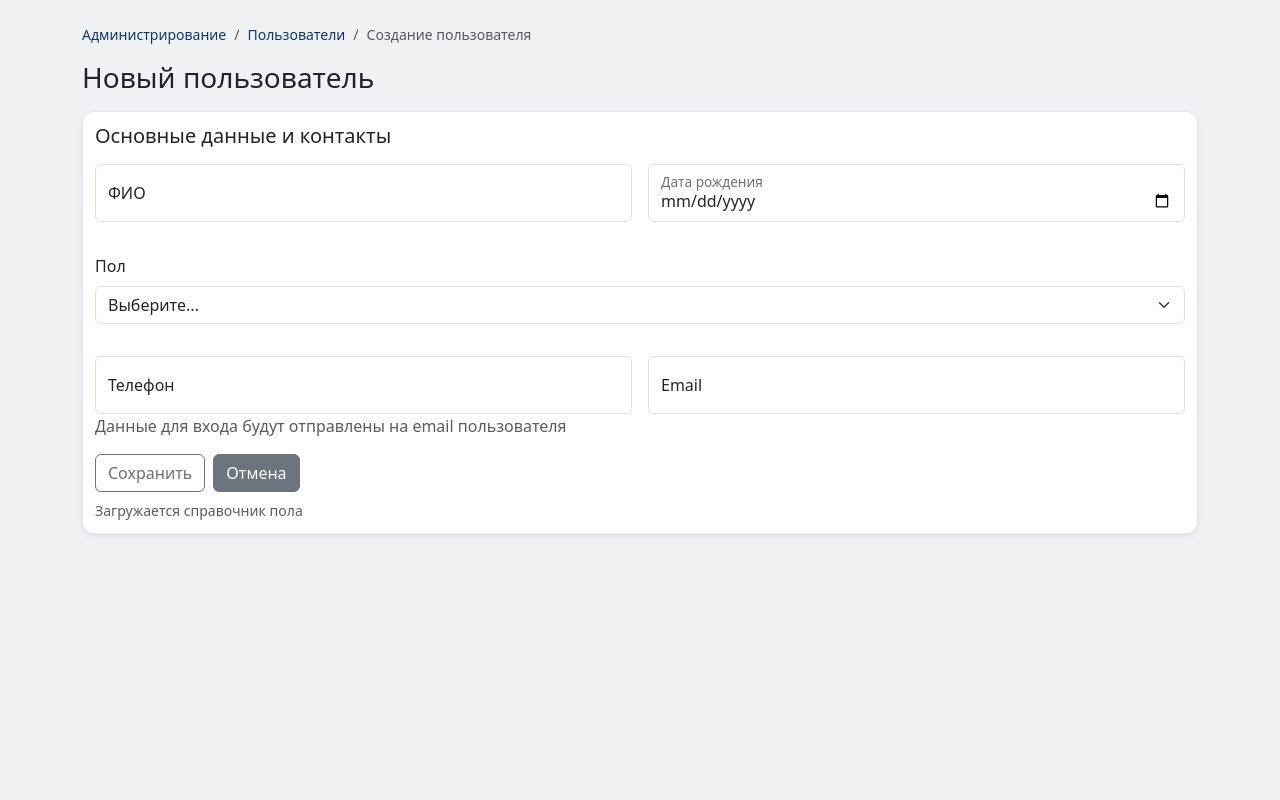
Test: AdminUserCreate view › maps validation_error.details to field-level errors
In the field labelled "ФИО": [364, 193] box [95,164,632,222], type "Иванов Иван"
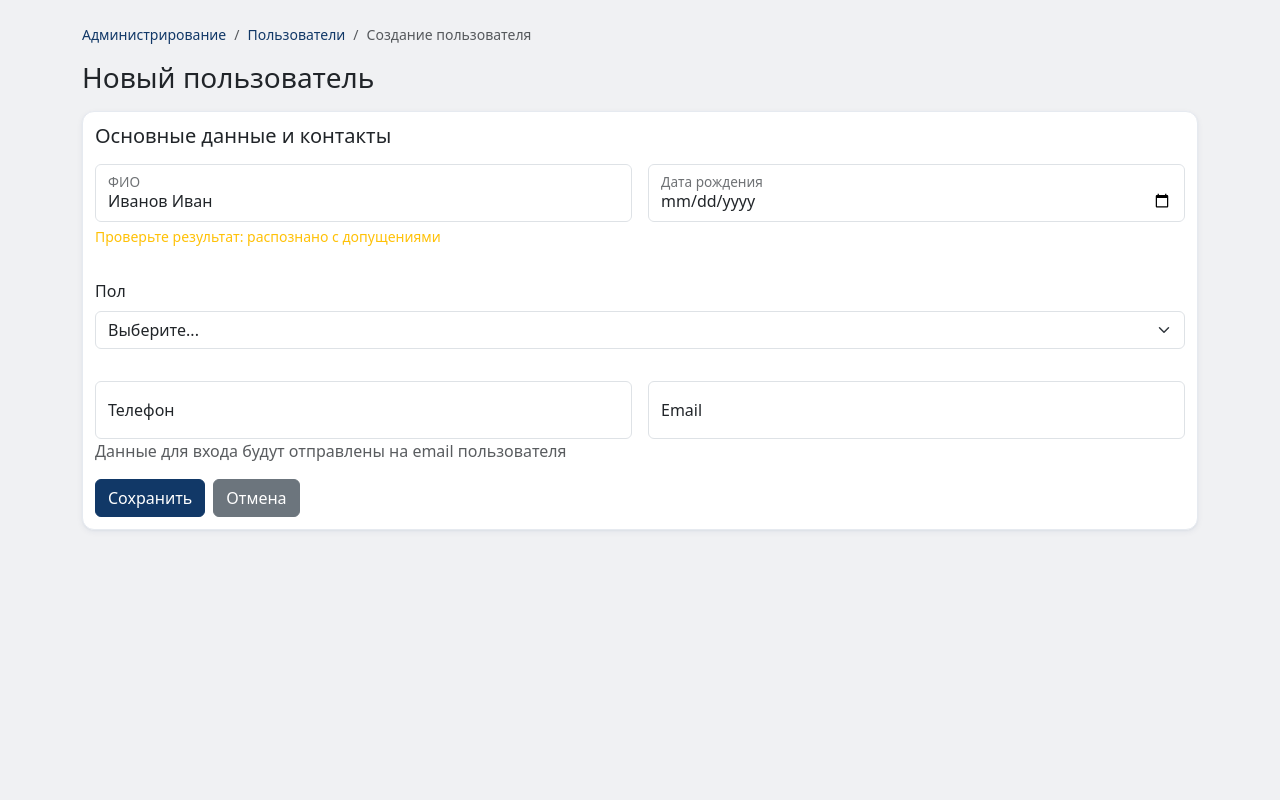
In the date field labelled "Дата рождения": [916, 193] box [648,164,1185,222], type "2000-01-01"
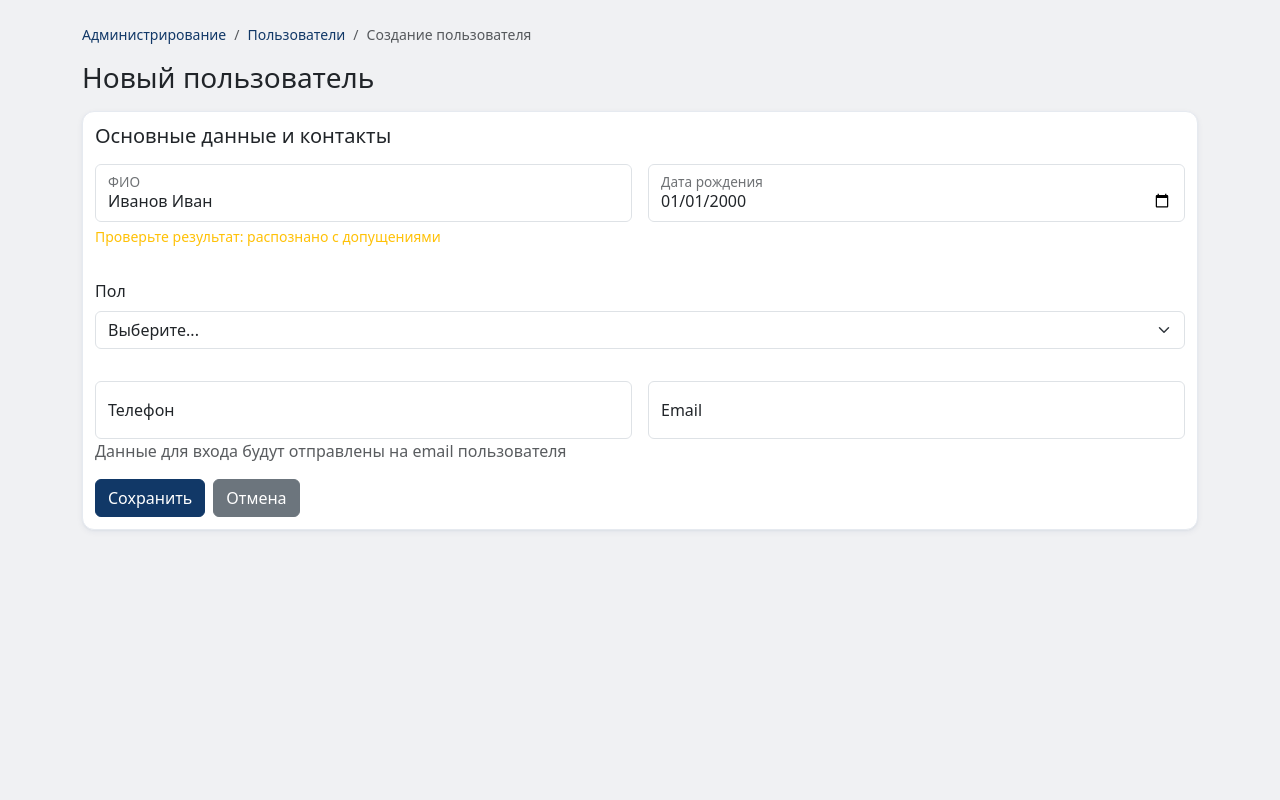
Select "Мужской" in the dropdown: [640, 330] box [95,311,1185,349]
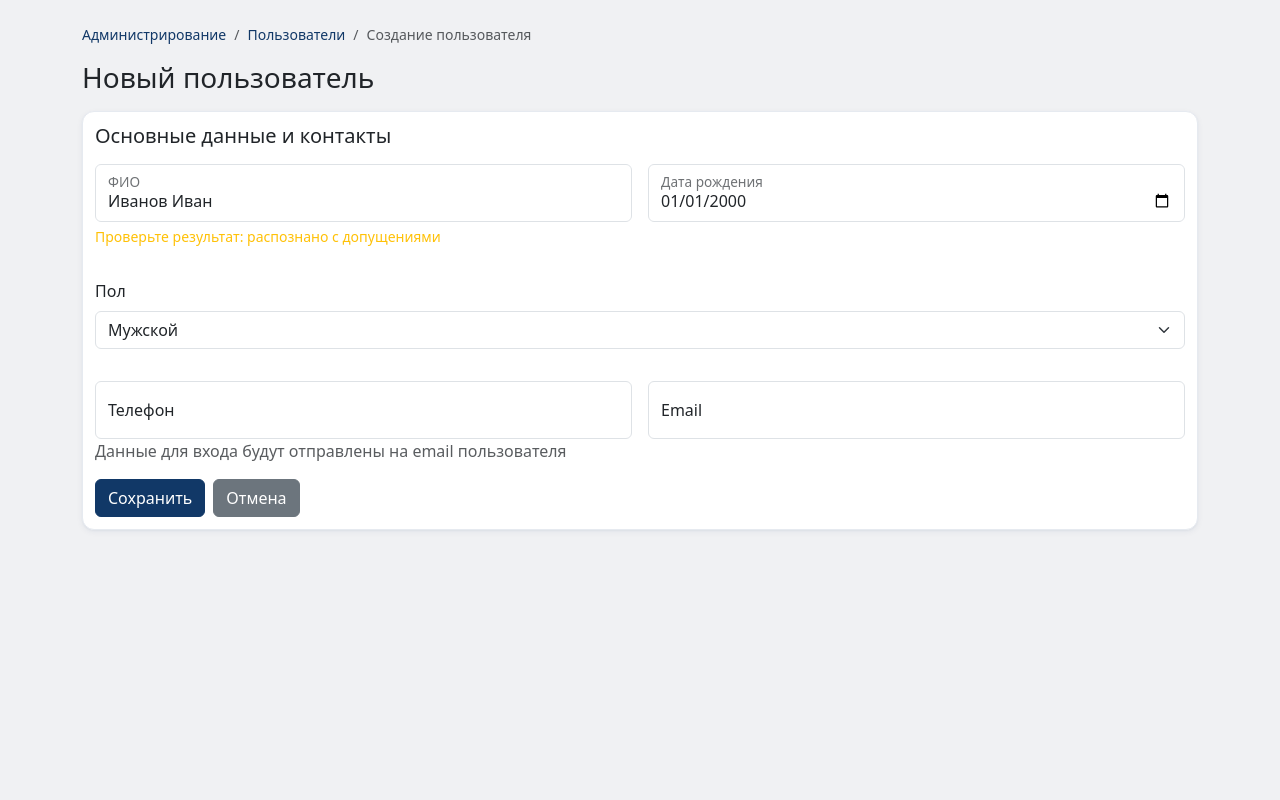
In the field with placeholder "Телефон": [364, 410] box [95,381,632,439], type "89991112233"
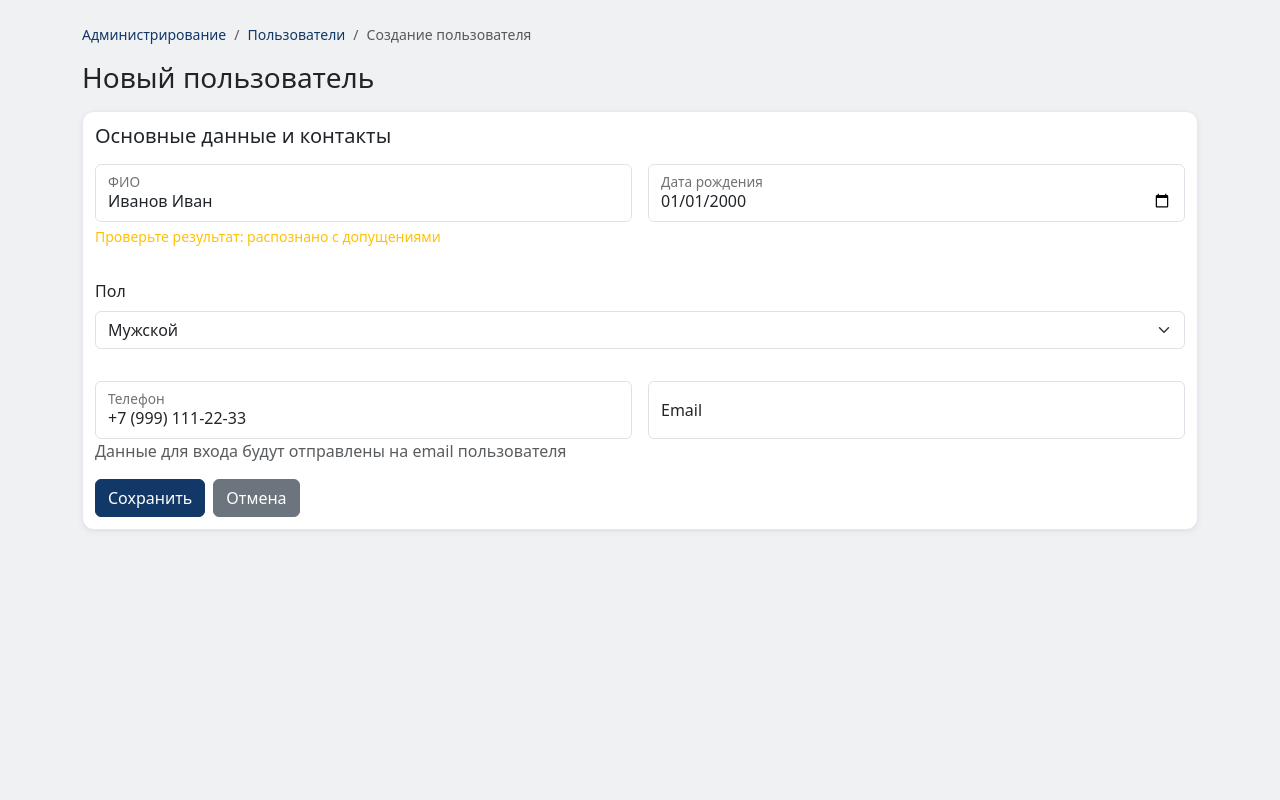
In the field with placeholder "Email": [916, 410] box [648,381,1185,439], type "ivanov@example.com"
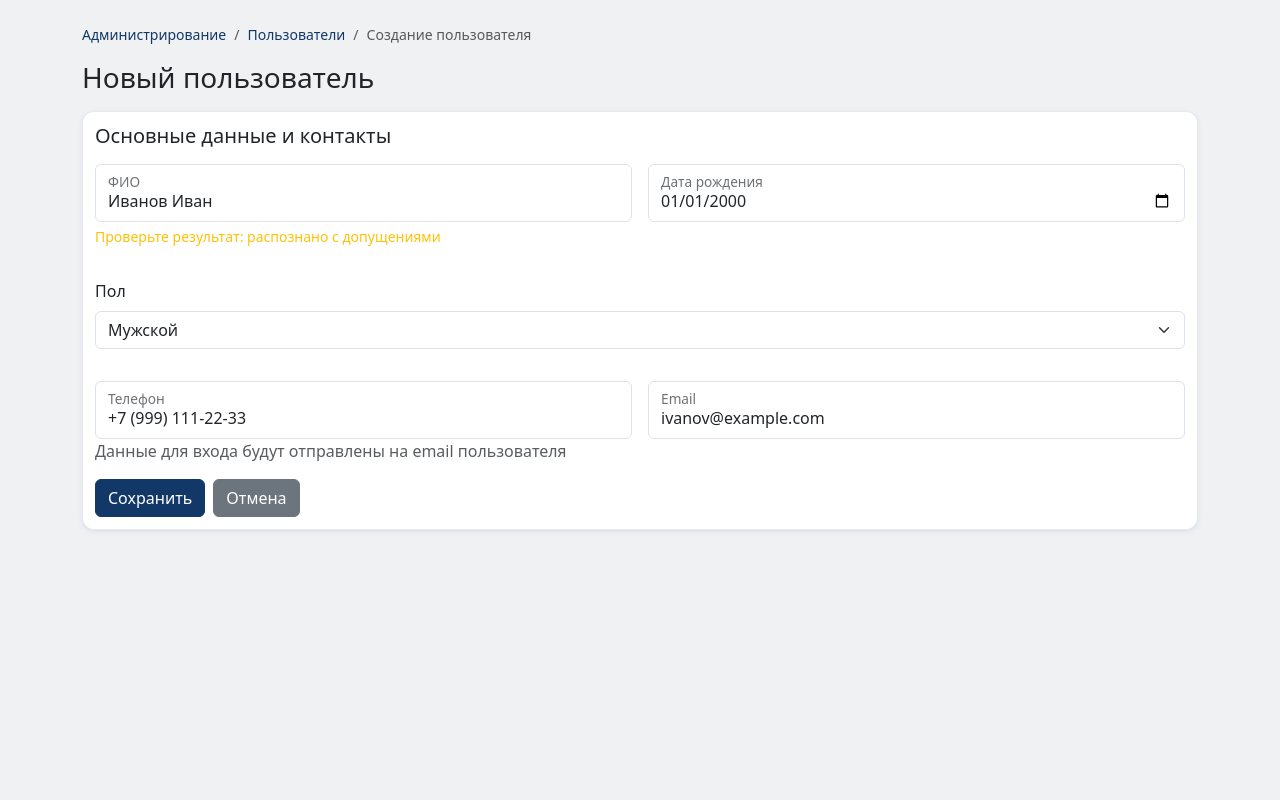
Click the button "Сохранить": [150, 498] box [95,479,205,517]
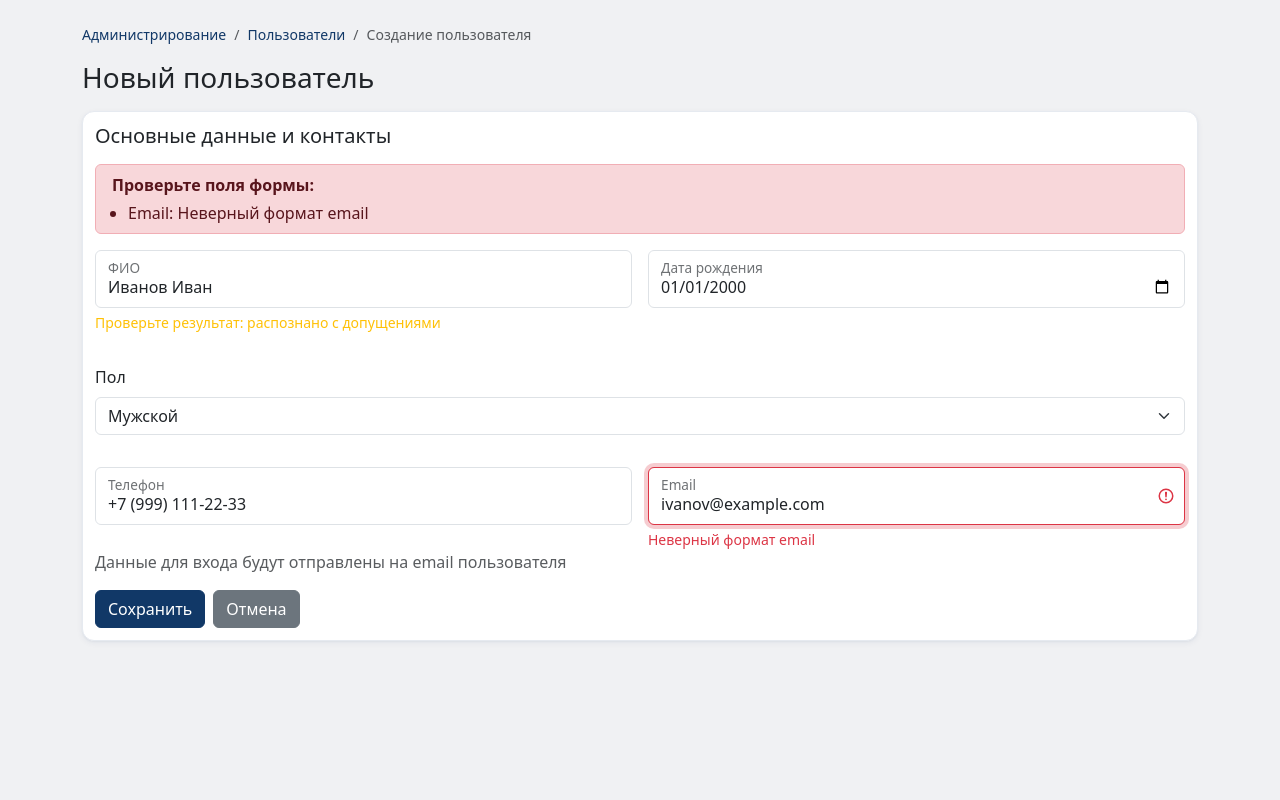
Result: the text "Неверный формат email" is shown at [648,530,815,549]
